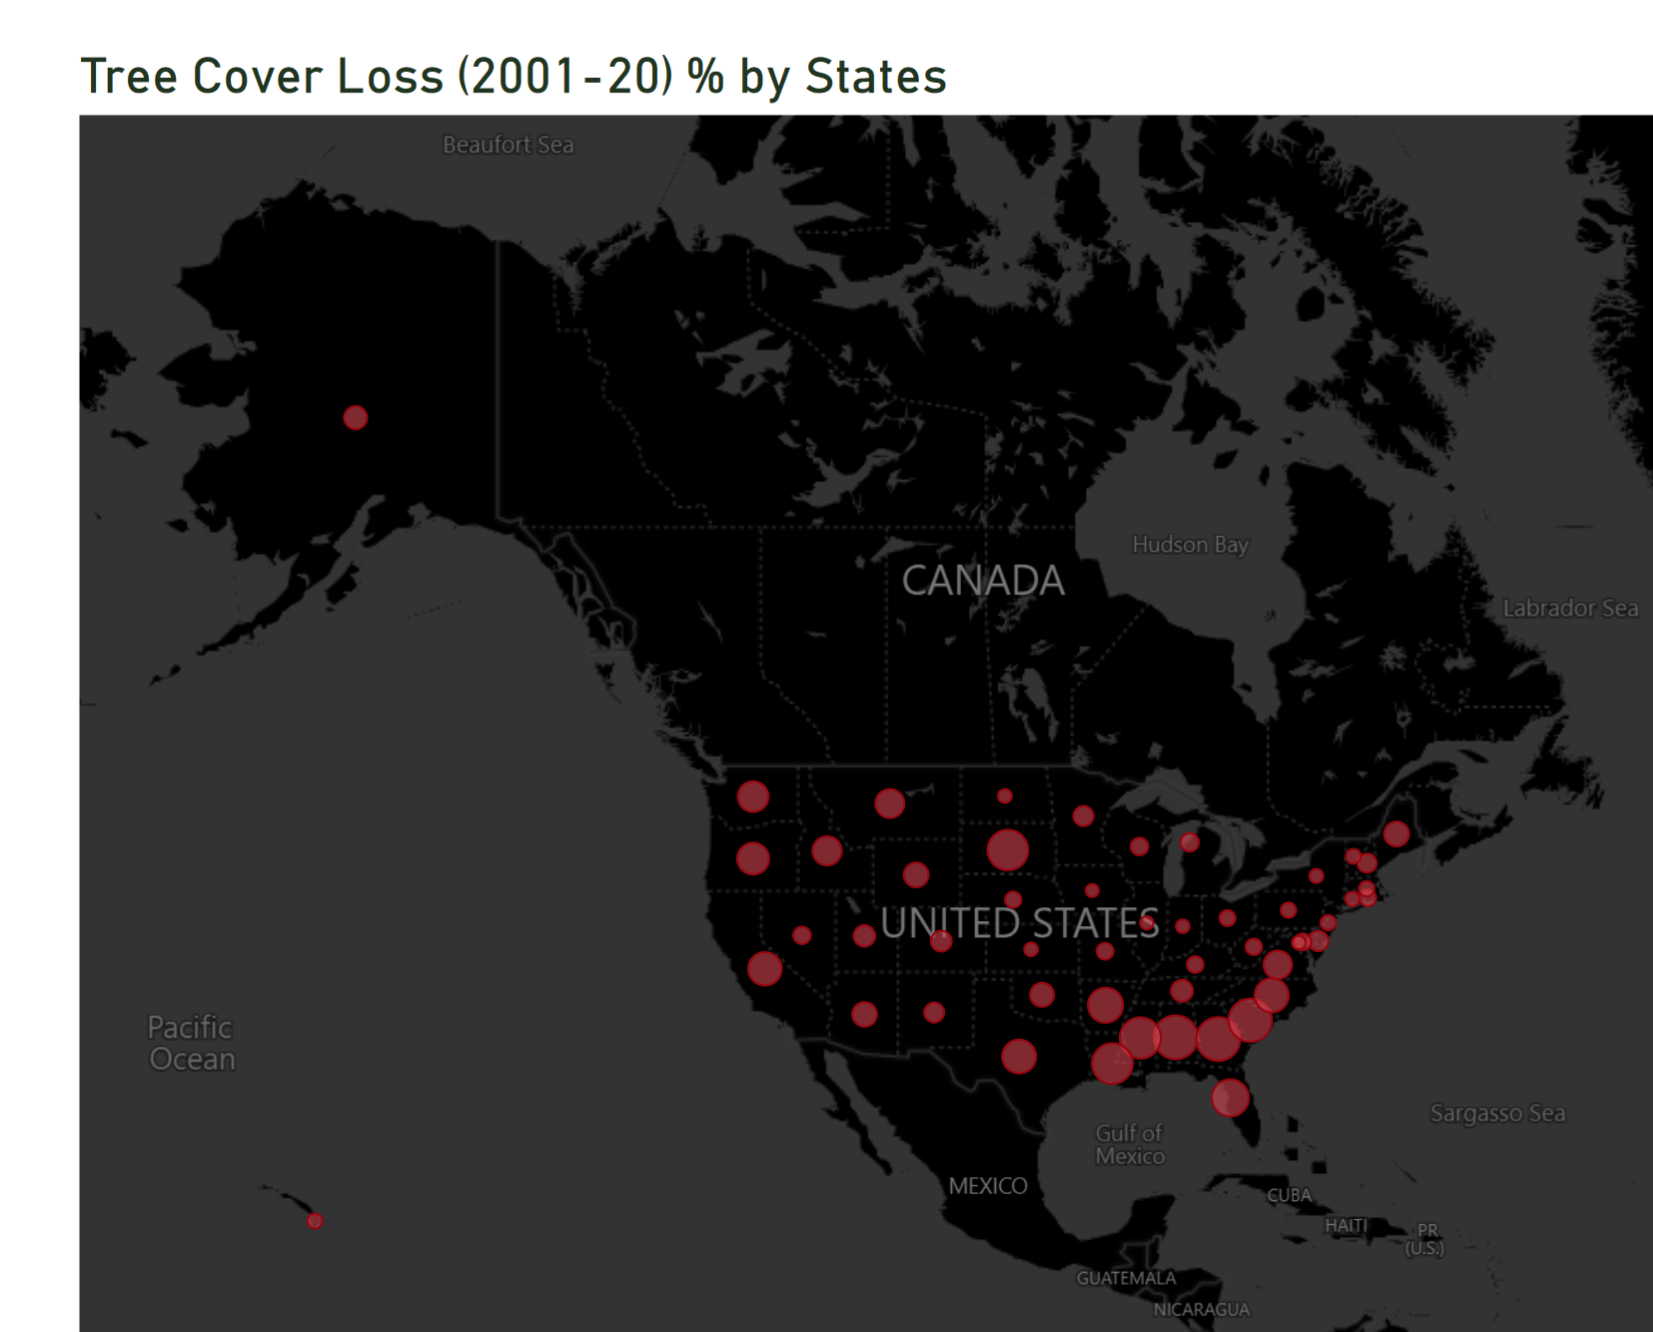

The page's visual inventory and layout, read from the dashboard file:
{"tool":"powerbi","page":{"name":"Page 1","canvas":[1280,720],"ordinal":0},"visuals":[{"type":"map","title":"Tree Cover Loss (2001-20) % by States","fields":{"Category":["Table 1.States"],"Size":["Sum(Table 1.Tree cover loss (2001-20) %)"]},"box":[9.7,0,1270.3,720.1],"z":0}]}

Visuals, with their boxes on the page's 1280x720 design canvas (x1, y1, x2, y2). These are canvas units, not pixel positions in the 1653x1332 screenshot, which may show the page scaled, cropped or inside an application window:
"Tree Cover Loss (2001-20) % by States" map: Rect(10, 0, 1280, 720)
